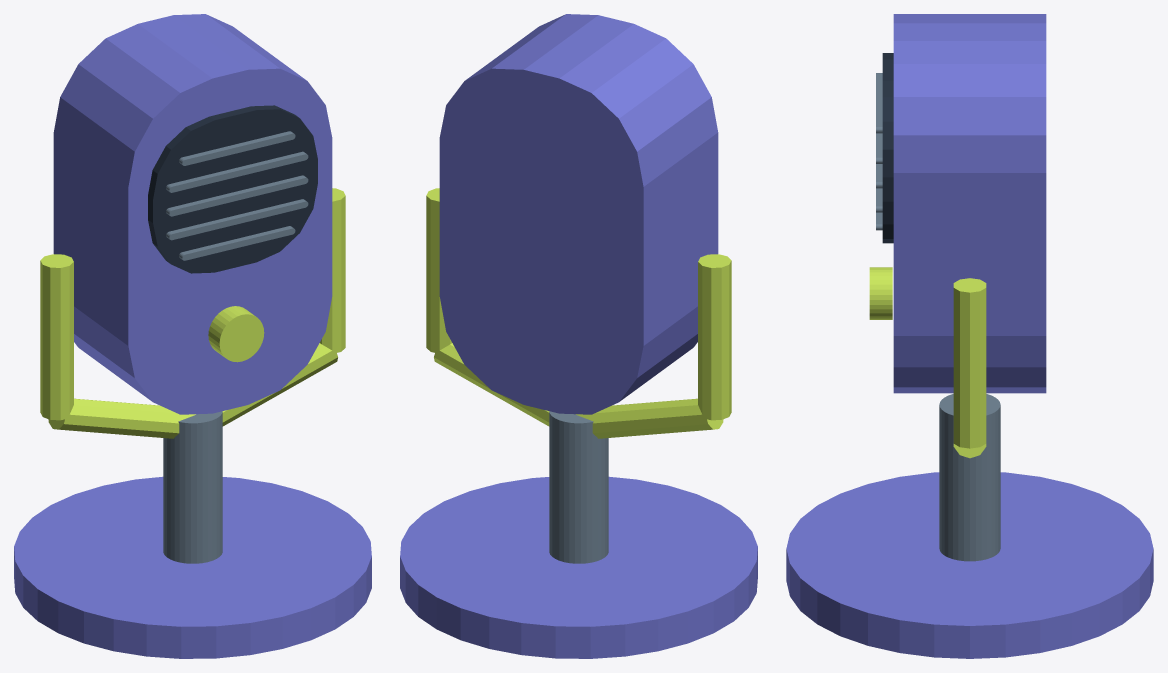
The model's file is mic.glb.
The picture shows the model from 3 angles, left to right: view 1: azimuth 30°, elevation 25°; view 2: azimuth 150°, elevation 25°; view 3: azimuth 270°, elevation 25°; orthographic projection. The views are drawn at different scales.
Visible parts, largest first — view 1: capsule, base, grille, stand, yoke0, yoke1, yoke3, mute key, mesh bar 3, mesh bar 1, mesh bar 2, yoke2 (+2 smaller); view 2: capsule, base, stand, yoke0, yoke1, yoke3, yoke2; view 3: capsule, base, stand, yoke3, grille, mute key.
Part boxes in pixels (x1=…): capsule: x1=53, y1=14, x2=332, y2=414; base: x1=14, y1=476, x2=371, y2=658; grille: x1=148, y1=105, x2=317, y2=273; stand: x1=163, y1=411, x2=222, y2=563; yoke0: x1=40, y1=254, x2=73, y2=420; yoke1: x1=48, y1=398, x2=195, y2=438; yoke3: x1=320, y1=188, x2=345, y2=352; mute key: x1=208, y1=306, x2=264, y2=362; mesh bar 3: x1=166, y1=151, x2=308, y2=192; mesh bar 1: x1=166, y1=199, x2=308, y2=240; mesh bar 2: x1=166, y1=175, x2=308, y2=216; yoke2: x1=222, y1=343, x2=337, y2=426; capsule: x1=439, y1=14, x2=718, y2=414; base: x1=400, y1=476, x2=757, y2=658; stand: x1=549, y1=411, x2=608, y2=563; yoke0: x1=698, y1=254, x2=731, y2=420; yoke1: x1=576, y1=398, x2=723, y2=438; yoke3: x1=426, y1=188, x2=451, y2=352; yoke2: x1=434, y1=343, x2=549, y2=426; capsule: x1=893, y1=14, x2=1046, y2=393; base: x1=786, y1=472, x2=1153, y2=658; stand: x1=939, y1=394, x2=1000, y2=561; yoke3: x1=953, y1=278, x2=986, y2=448; grille: x1=882, y1=53, x2=893, y2=243; mute key: x1=869, y1=267, x2=892, y2=319.
Size of the model in its own units: 0.96 by 1.59 by 0.96.
